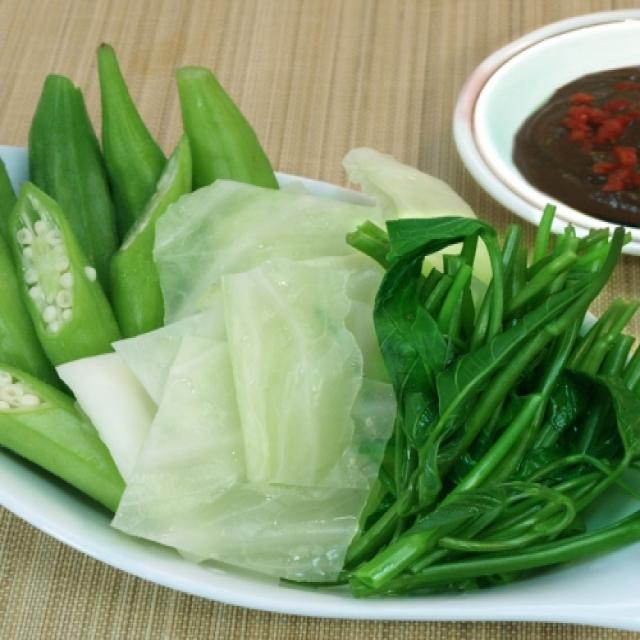bap cai luoc: (56, 148, 472, 579)
dau bap: (0, 44, 275, 509)
rau muong: (349, 207, 639, 592)
